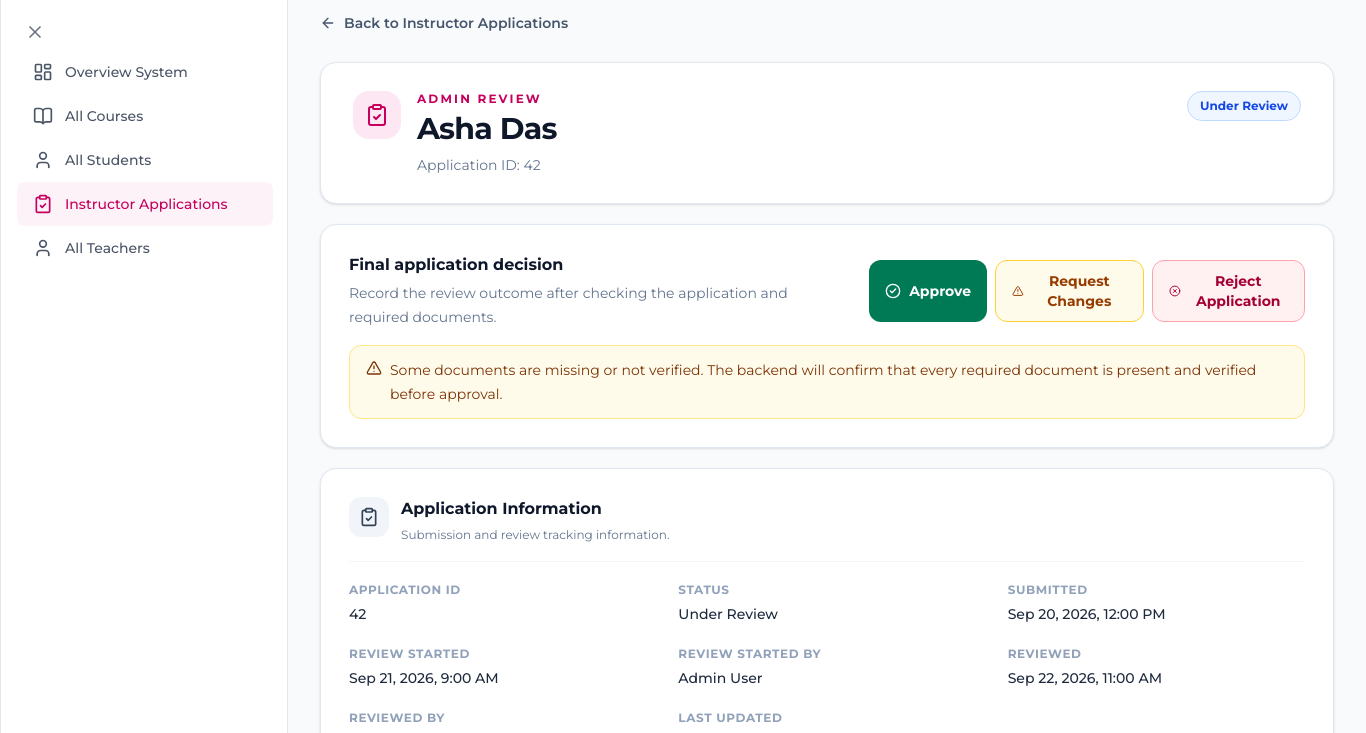
Instructor application review detail › requires request-change remarks and applies the returned state
Click the button "Request Changes".
click(1069, 291)  # box [995,260,1144,322]
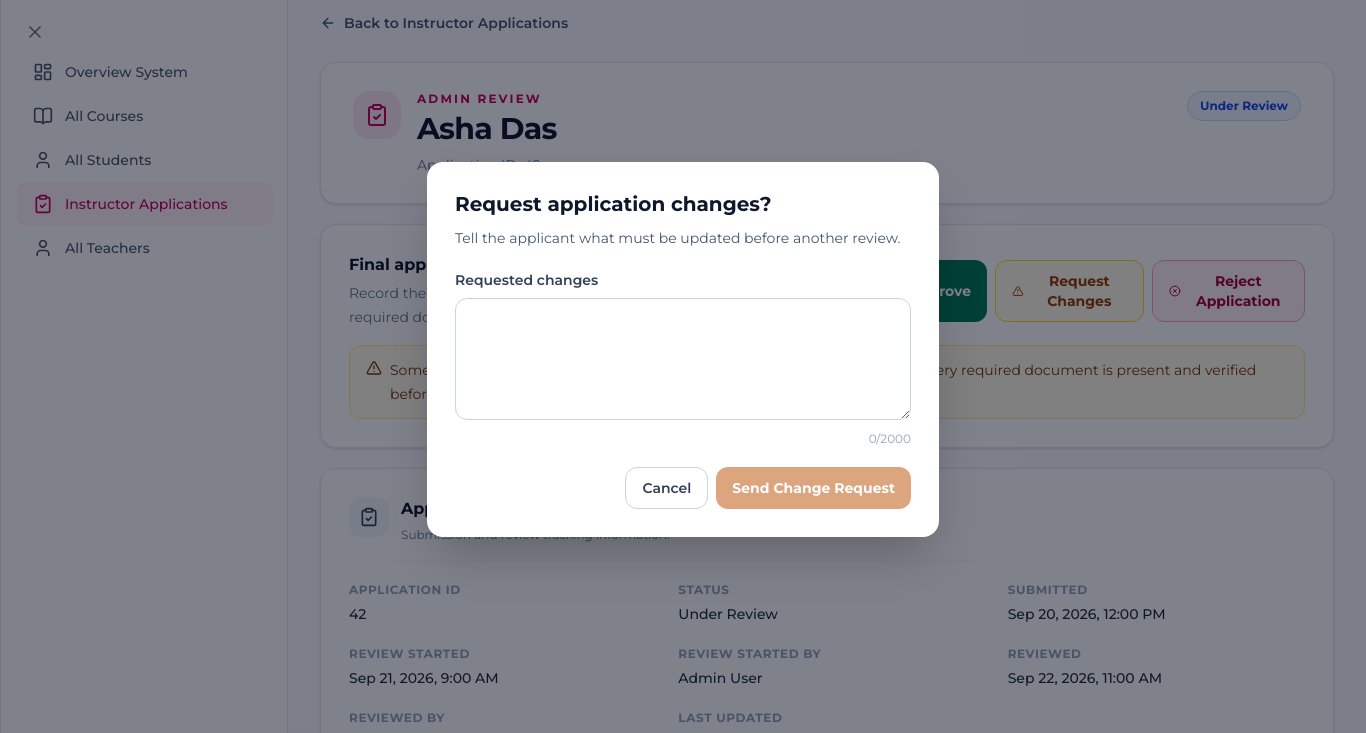
Now the button "Send Change Request" is disabled, box [716,466,911,508]
Type "Upload a clearer certificate" into the text box labelled "Requested changes".
click(683, 358); type("Upload a clearer certificate")  # box [455,298,911,420]
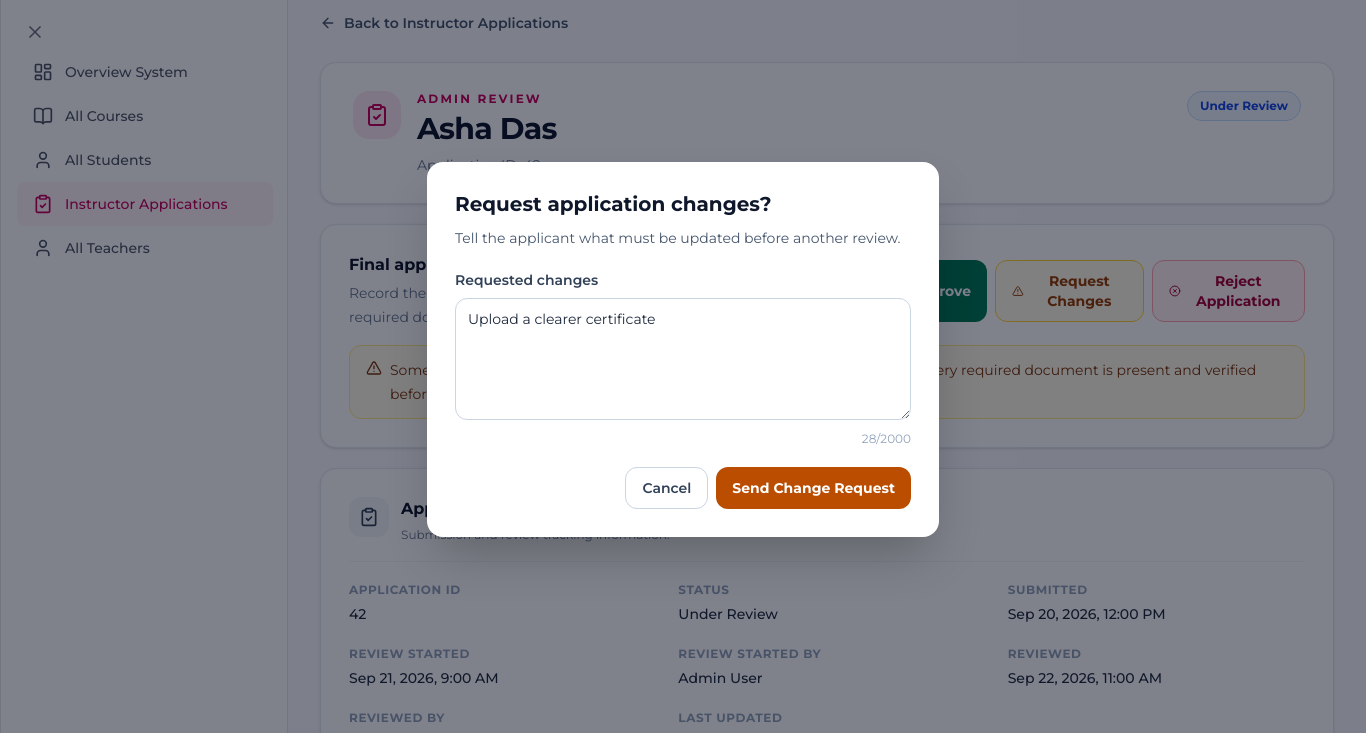
Click the button "Send Change Request".
click(814, 488)  # box [716,466,911,508]
(page scrolled)
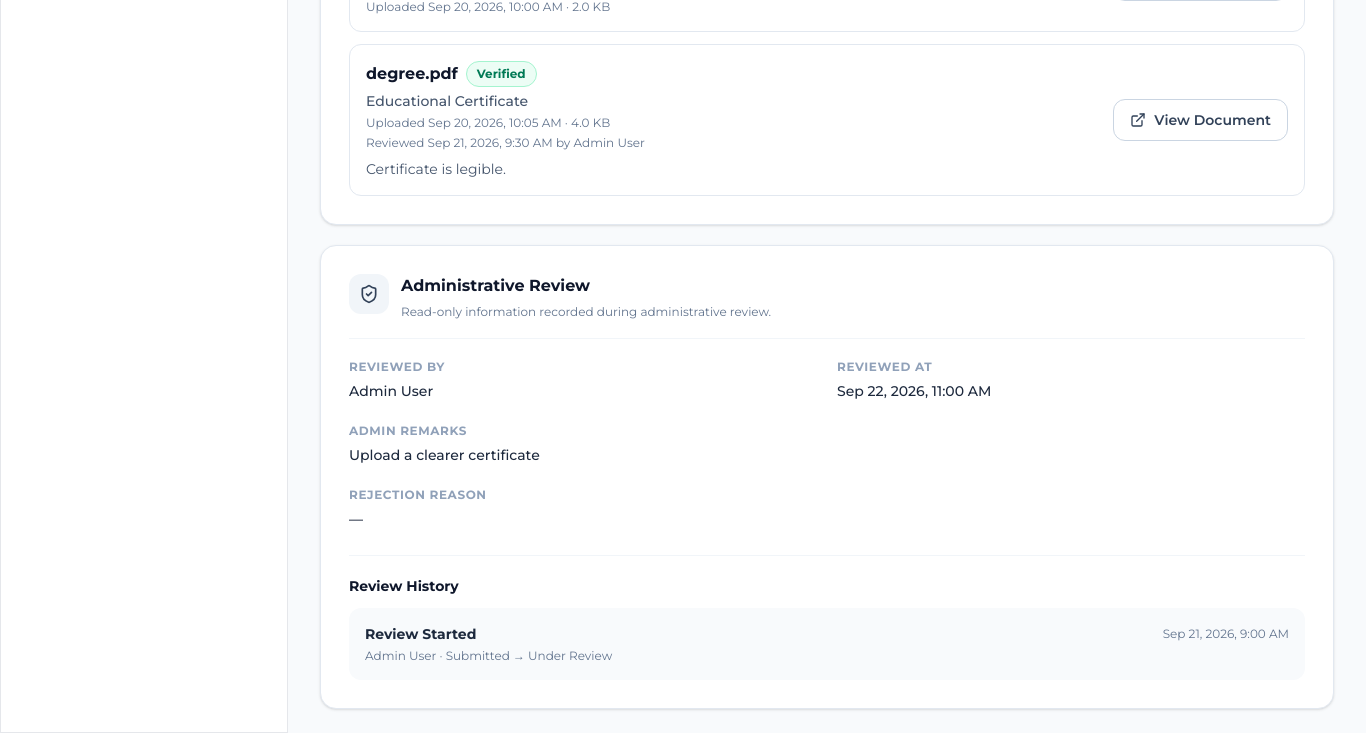
Now the button "Request Changes" is gone
Now the text "Upload a clearer certificate" is shown, box [349,446,540,464]
